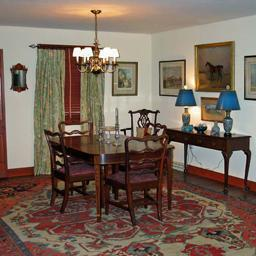Ventana: (38, 47, 102, 126)
